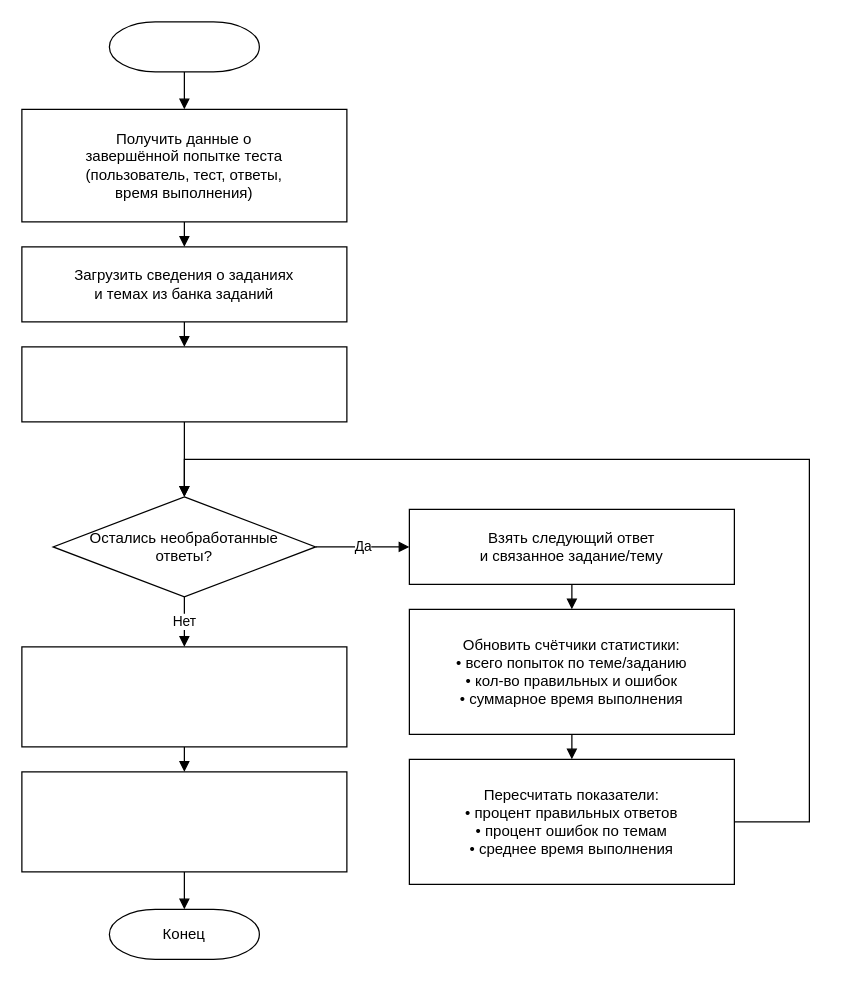
This 841x981 diagram has some shape labels left out. The centre of each missing label's shape, as x and y in pixels:
Инициализировать перебор ответов попытки: point (184, 384)
Начало: point (183, 46)
Обновить сводные данные для отчётов по темам, пользователям и тестам: point (184, 821)
Сохранить обновлённые агрегаты статистики в таблицах аналитики: point (184, 696)
